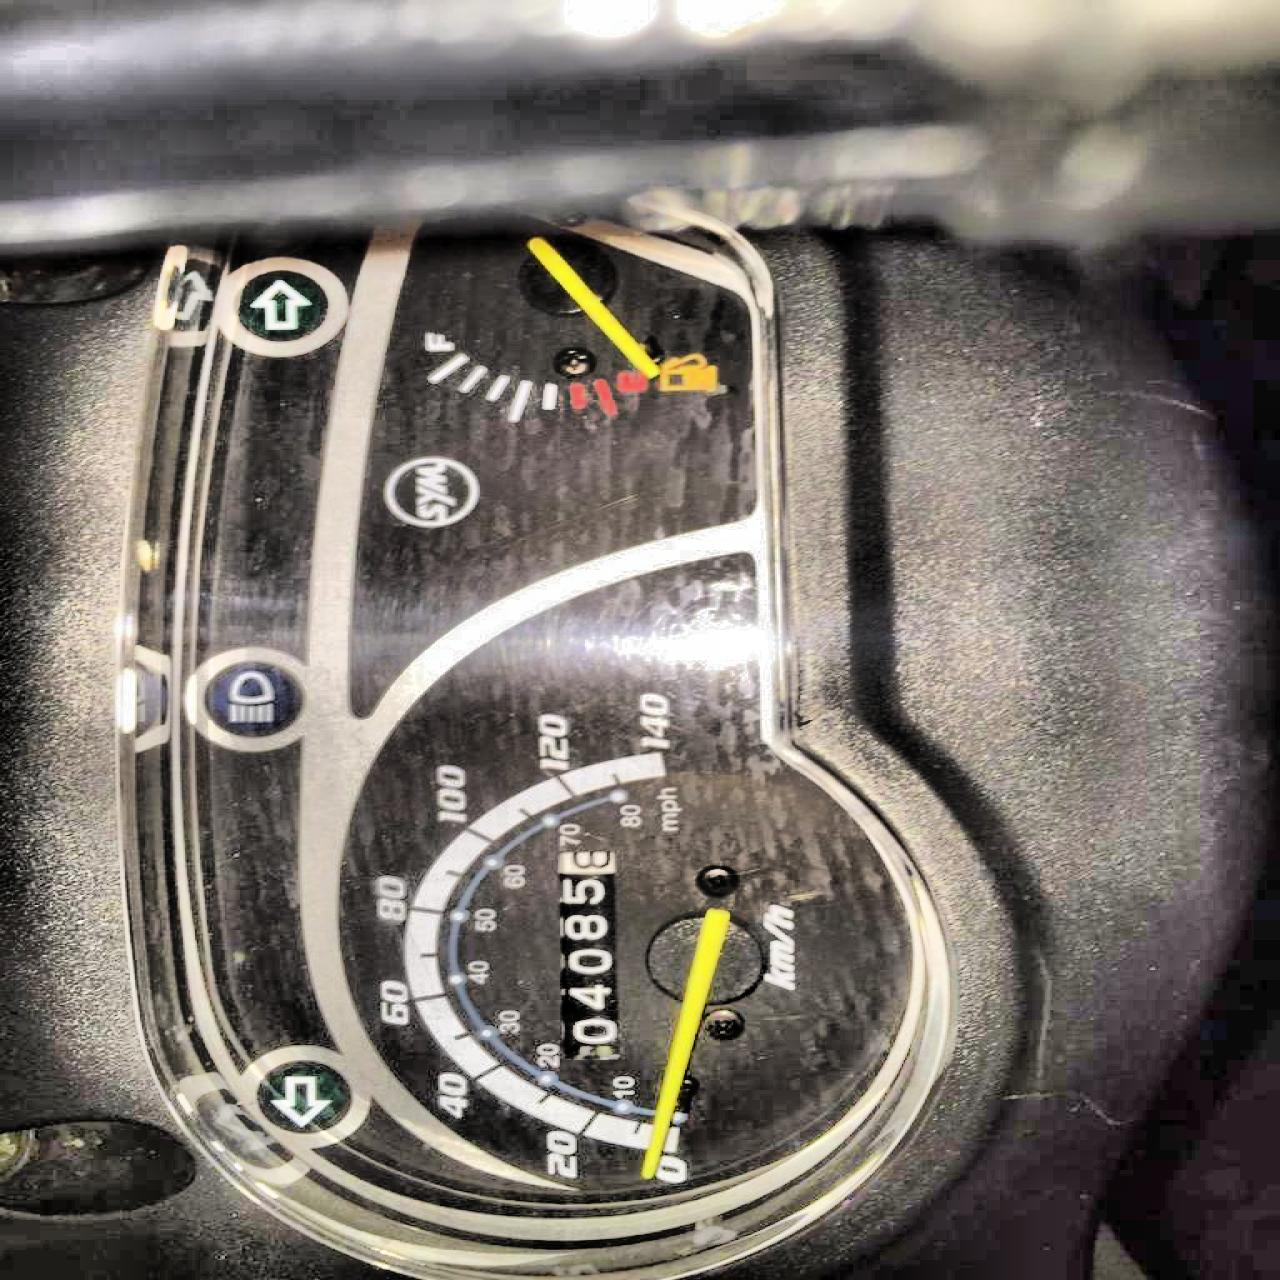0: (566, 947, 612, 973), (570, 1016, 615, 1042)
4: (567, 982, 611, 1008)
5: (560, 878, 604, 904)
8: (561, 912, 606, 939), (572, 849, 608, 867)
odometer: (552, 846, 624, 1062)
